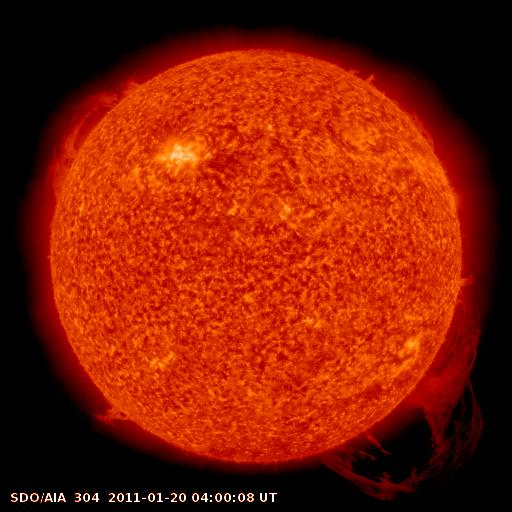prominence: (313, 294, 500, 502), (36, 67, 149, 206), (342, 58, 439, 154), (78, 386, 142, 438)
